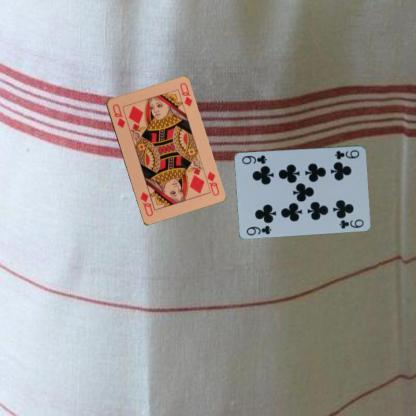9c: (333, 147, 360, 161), (244, 223, 273, 236)
Qd: (201, 169, 220, 197), (110, 101, 126, 129)
